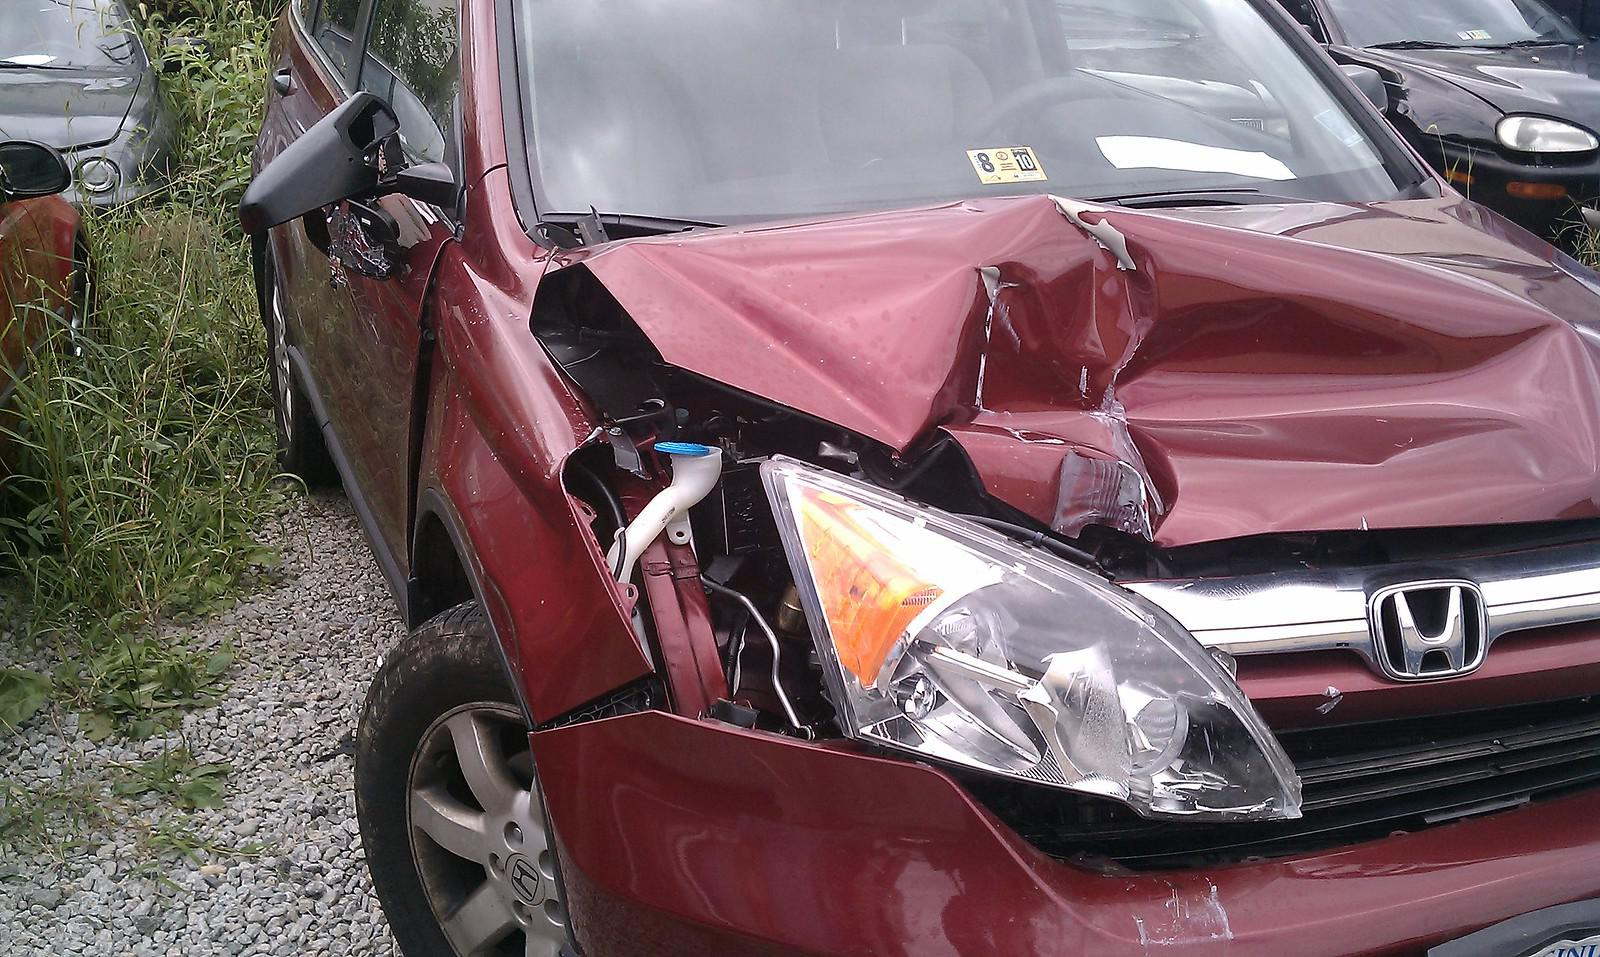bonnet-dent: (605, 163, 1599, 558)
front-bumper-dent: (563, 723, 1438, 956)
